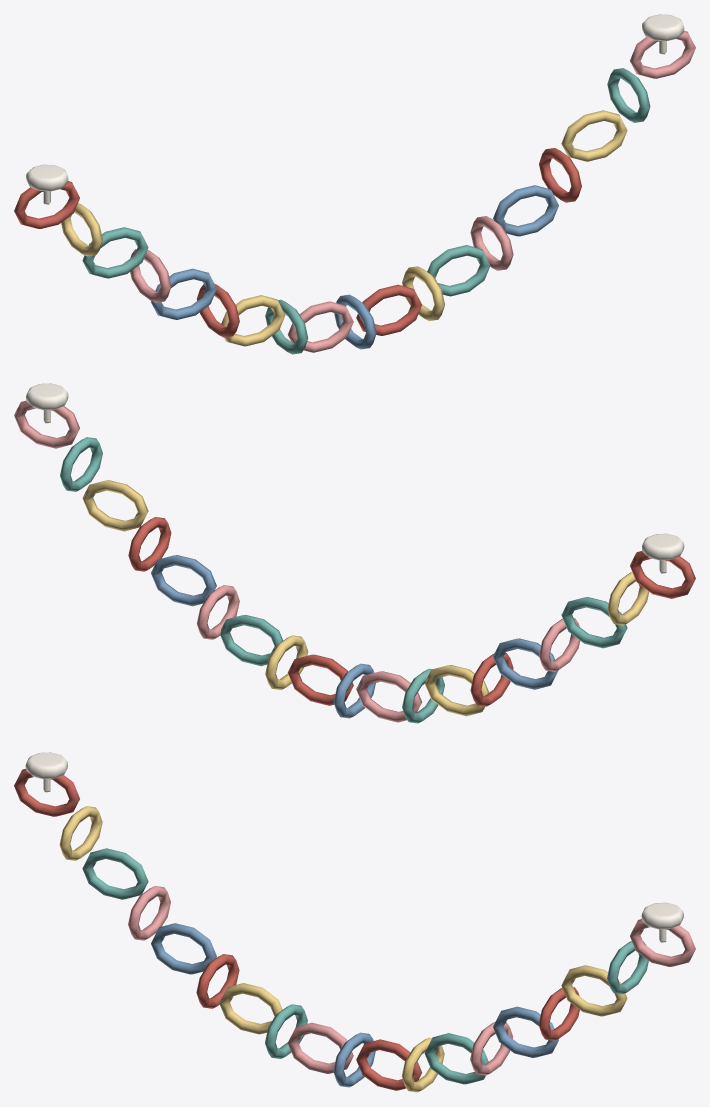
Rendered from paper_chain_garland.glb.
3 views of the same model, one above another, from view 1: azimuth 30°, elevation 25°; view 2: azimuth 150°, elevation 25°; view 3: azimuth 330°, elevation 25° (orthographic).
Visible parts, largest first — view 1: paper_chain_garland_mesh; view 2: paper_chain_garland_mesh; view 3: paper_chain_garland_mesh.
Part boxes in pixels (x1=…): paper_chain_garland_mesh: x1=14, y1=14, x2=695, y2=354; paper_chain_garland_mesh: x1=14, y1=383, x2=695, y2=723; paper_chain_garland_mesh: x1=14, y1=752, x2=695, y2=1092.
Size of the model in its own units: 1.11 by 0.3864 by 0.106.
